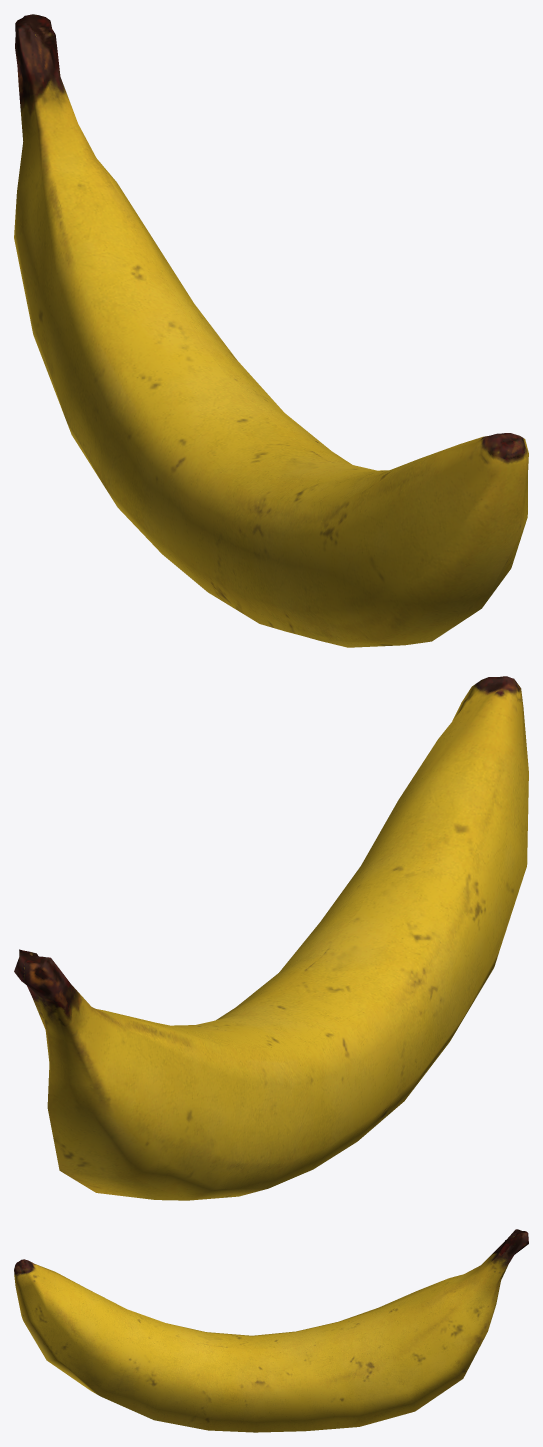
The model's file is low_poly_banana.glb.
The picture shows the model from 3 angles, top to bottom: view 1: azimuth 30°, elevation 25°; view 2: azimuth 150°, elevation 25°; view 3: azimuth 270°, elevation 25°; orthographic projection. The views are drawn at different scales.
Visible parts, largest first — view 1: Banana; view 2: Banana; view 3: Banana.
Boxes of the visible parts, x1=… form: Banana: x1=14, y1=14, x2=528, y2=647; Banana: x1=14, y1=676, x2=528, y2=1200; Banana: x1=14, y1=1229, x2=528, y2=1432.
Size of the model in its own units: 0.00357 by 0.00828 by 0.0194.
Materials: 1 (1 with a texture image).
